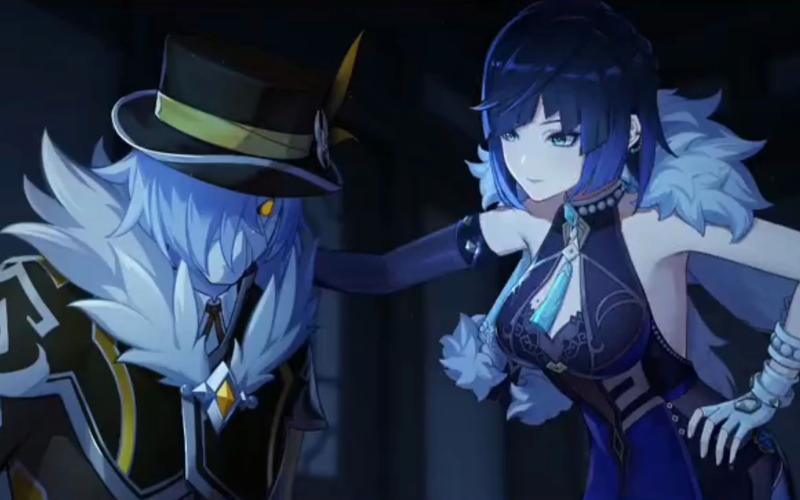夜兰: (311, 3, 800, 498)
